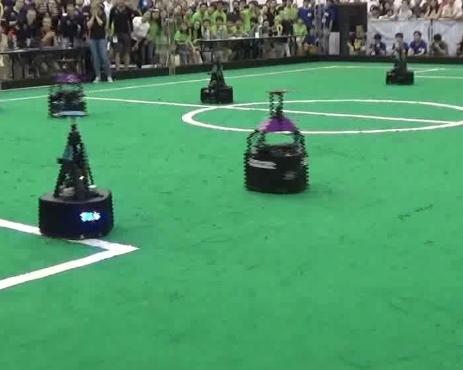robot: (36, 113, 115, 241), (239, 84, 312, 193), (198, 51, 234, 105), (385, 42, 415, 86)
